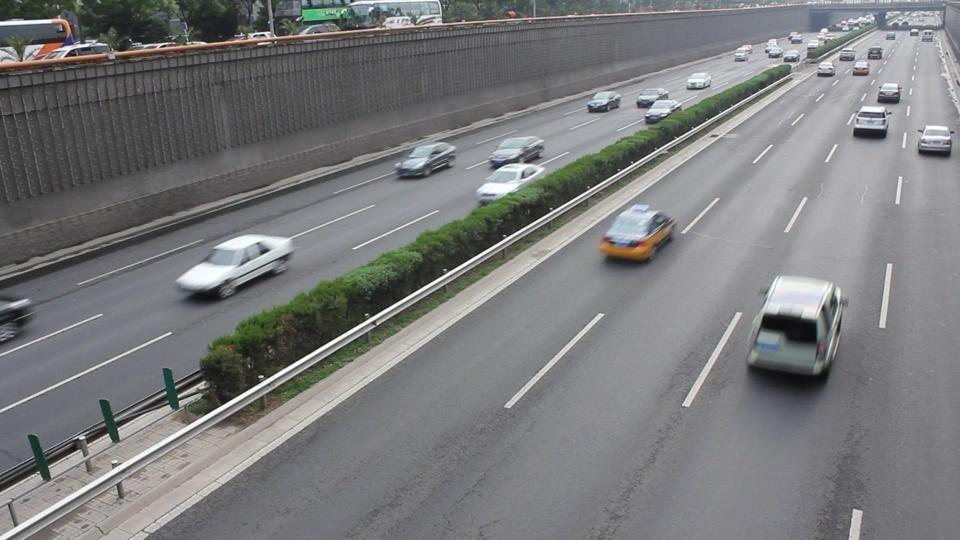car: (746, 273, 848, 377), (174, 233, 295, 301), (598, 202, 679, 263), (474, 161, 546, 206), (393, 142, 457, 179), (488, 135, 545, 168), (34, 41, 118, 63), (0, 296, 38, 341), (850, 105, 891, 139), (916, 125, 954, 158), (586, 90, 622, 112), (635, 87, 669, 108), (878, 81, 901, 104), (687, 73, 712, 90), (817, 62, 835, 76)
